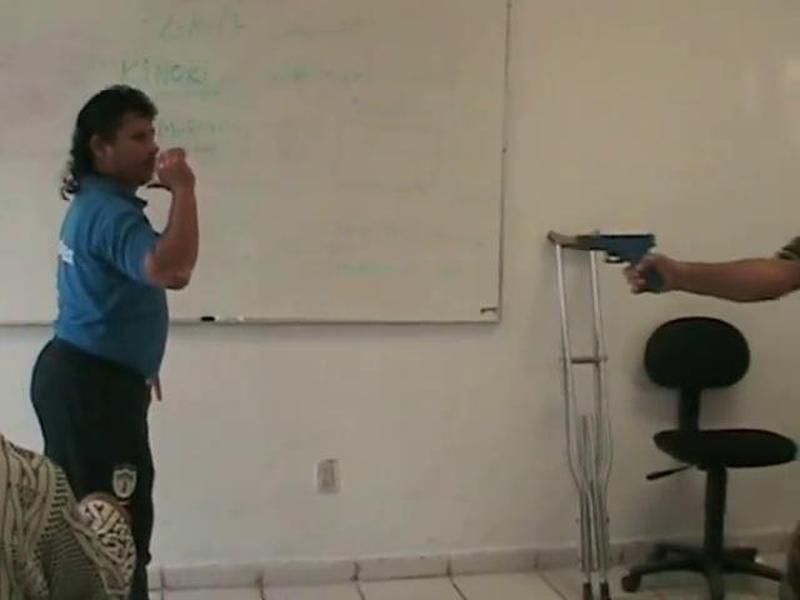Pistola: (575, 221, 673, 309)
